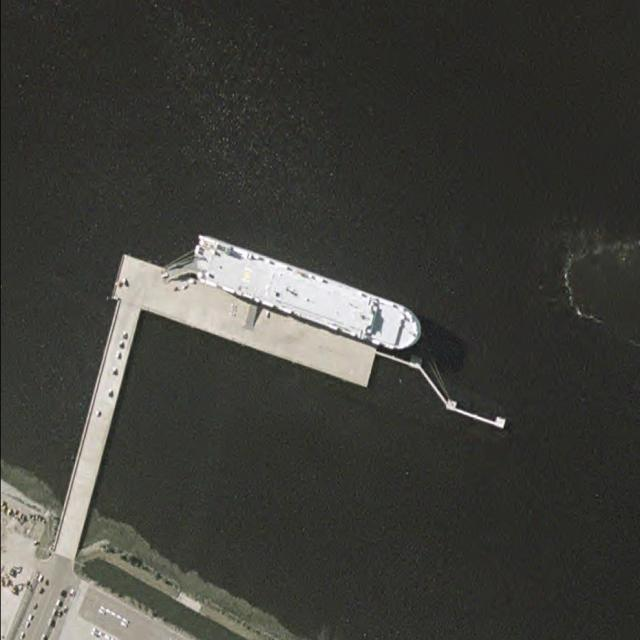Dock: (107, 255, 381, 387)
RoRo: (187, 233, 427, 361)
